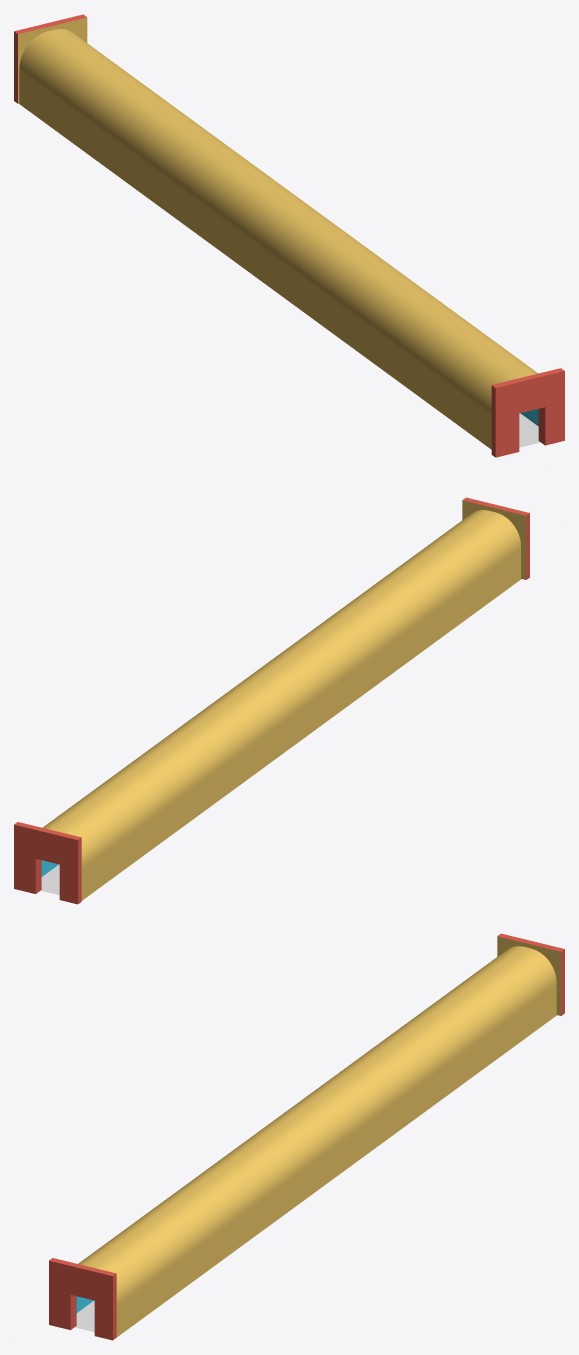
Rendered from Project (remade tunnel).fbx.
3 renders of one model, top to bottom at view 1: azimuth 30°, elevation 25°; view 2: azimuth 150°, elevation 25°; view 3: azimuth 330°, elevation 25°, orthographic. The views are drawn at different scales.
Parts seen in each view (by area): view 1: Plane.069, Cube, Cube.007; view 2: Plane.069, Cube.007, Cube; view 3: Plane.069, Cube, Cube.007.
Part boxes in pixels (x1=…): Plane.069: x1=19, y1=29, x2=538, y2=449; Cube: x1=491, y1=368, x2=564, y2=457; Cube.007: x1=14, y1=14, x2=87, y2=103; Plane.069: x1=41, y1=510, x2=520, y2=900; Cube.007: x1=14, y1=822, x2=81, y2=904; Cube: x1=462, y1=497, x2=529, y2=579; Plane.069: x1=76, y1=946, x2=556, y2=1337; Cube: x1=49, y1=1258, x2=116, y2=1340; Cube.007: x1=497, y1=933, x2=564, y2=1015.
Size of the model in its own units: 15029 by 13701 by 188007.
